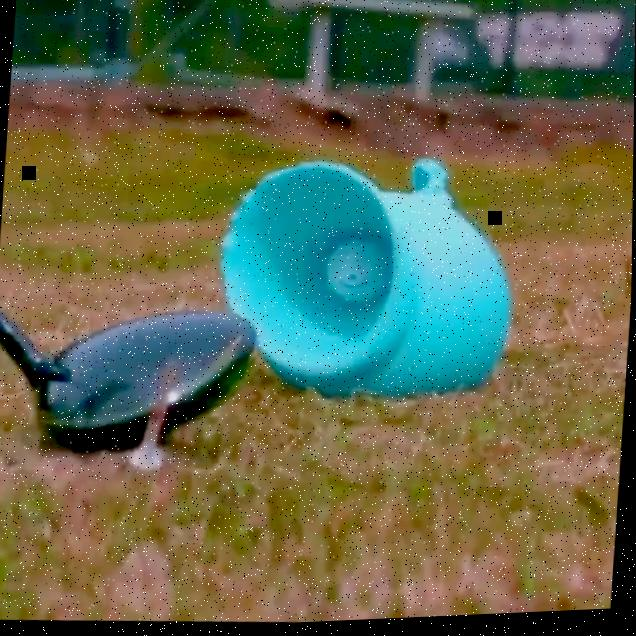ClubHead: (51, 303, 262, 448)
